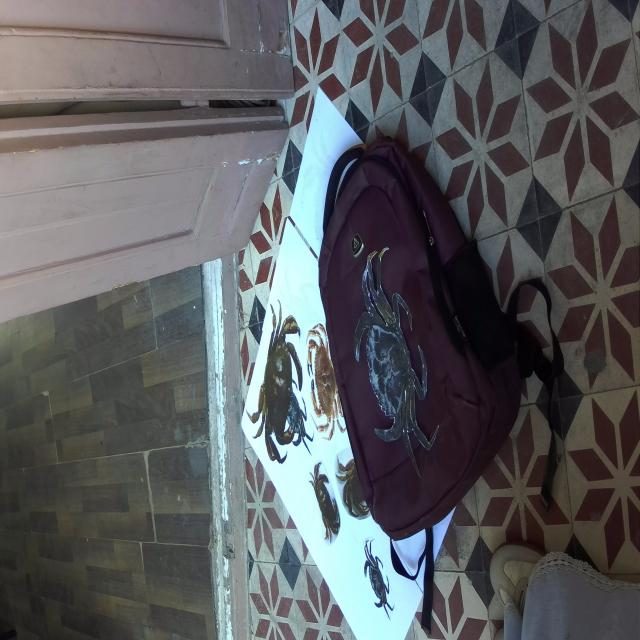European_Green_Crab: (334, 236, 445, 484), (358, 537, 399, 622), (281, 392, 318, 459)
